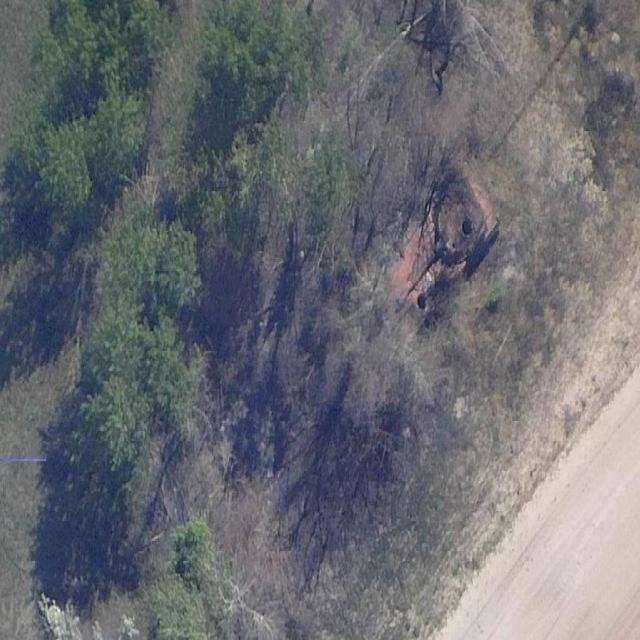ART: (382, 160, 502, 340)
